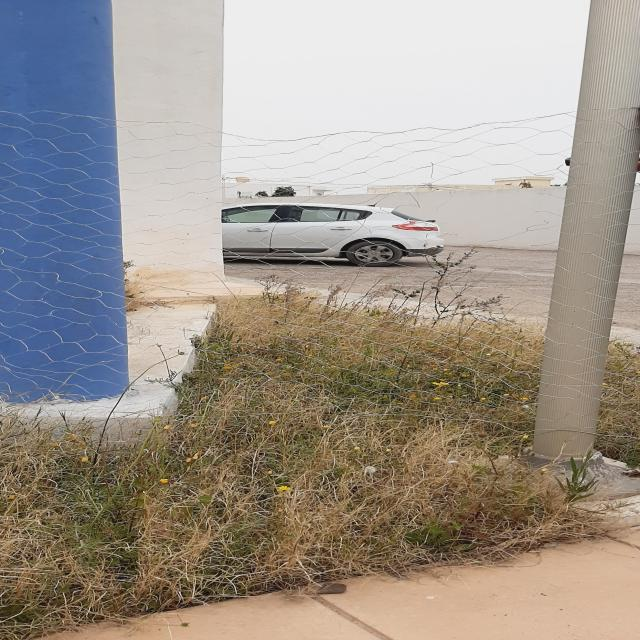fence line: (347, 175, 522, 257)
